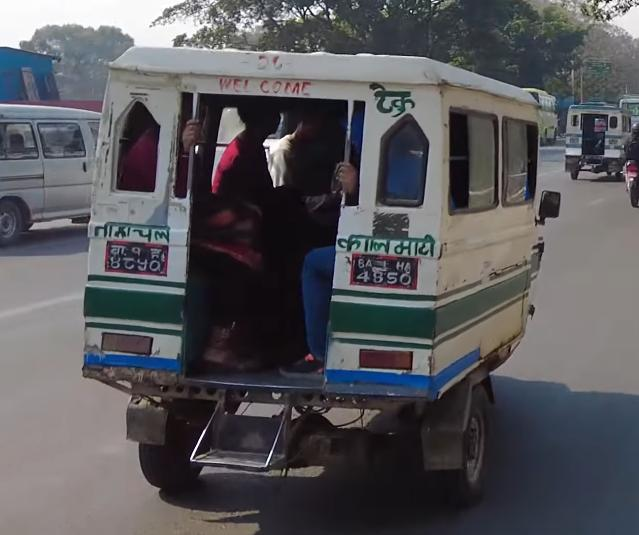tempo: (77, 33, 562, 505), (561, 98, 629, 184)
